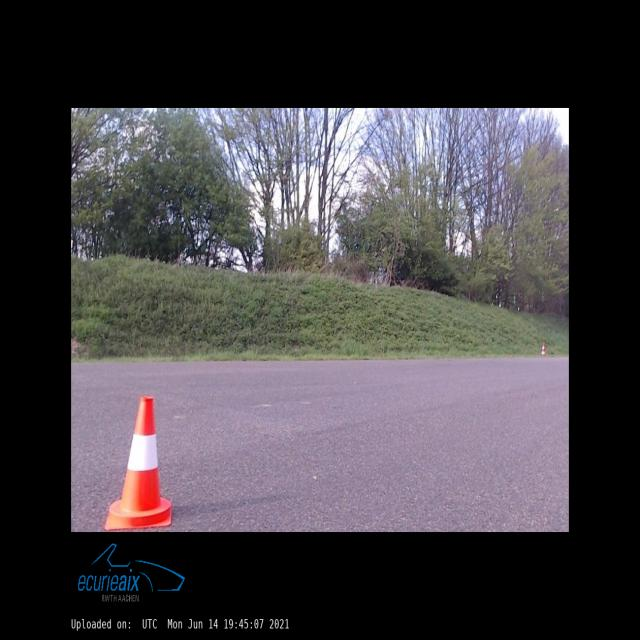large_orange_cone: (540, 342, 546, 357)
orange_cone: (105, 397, 172, 531)
